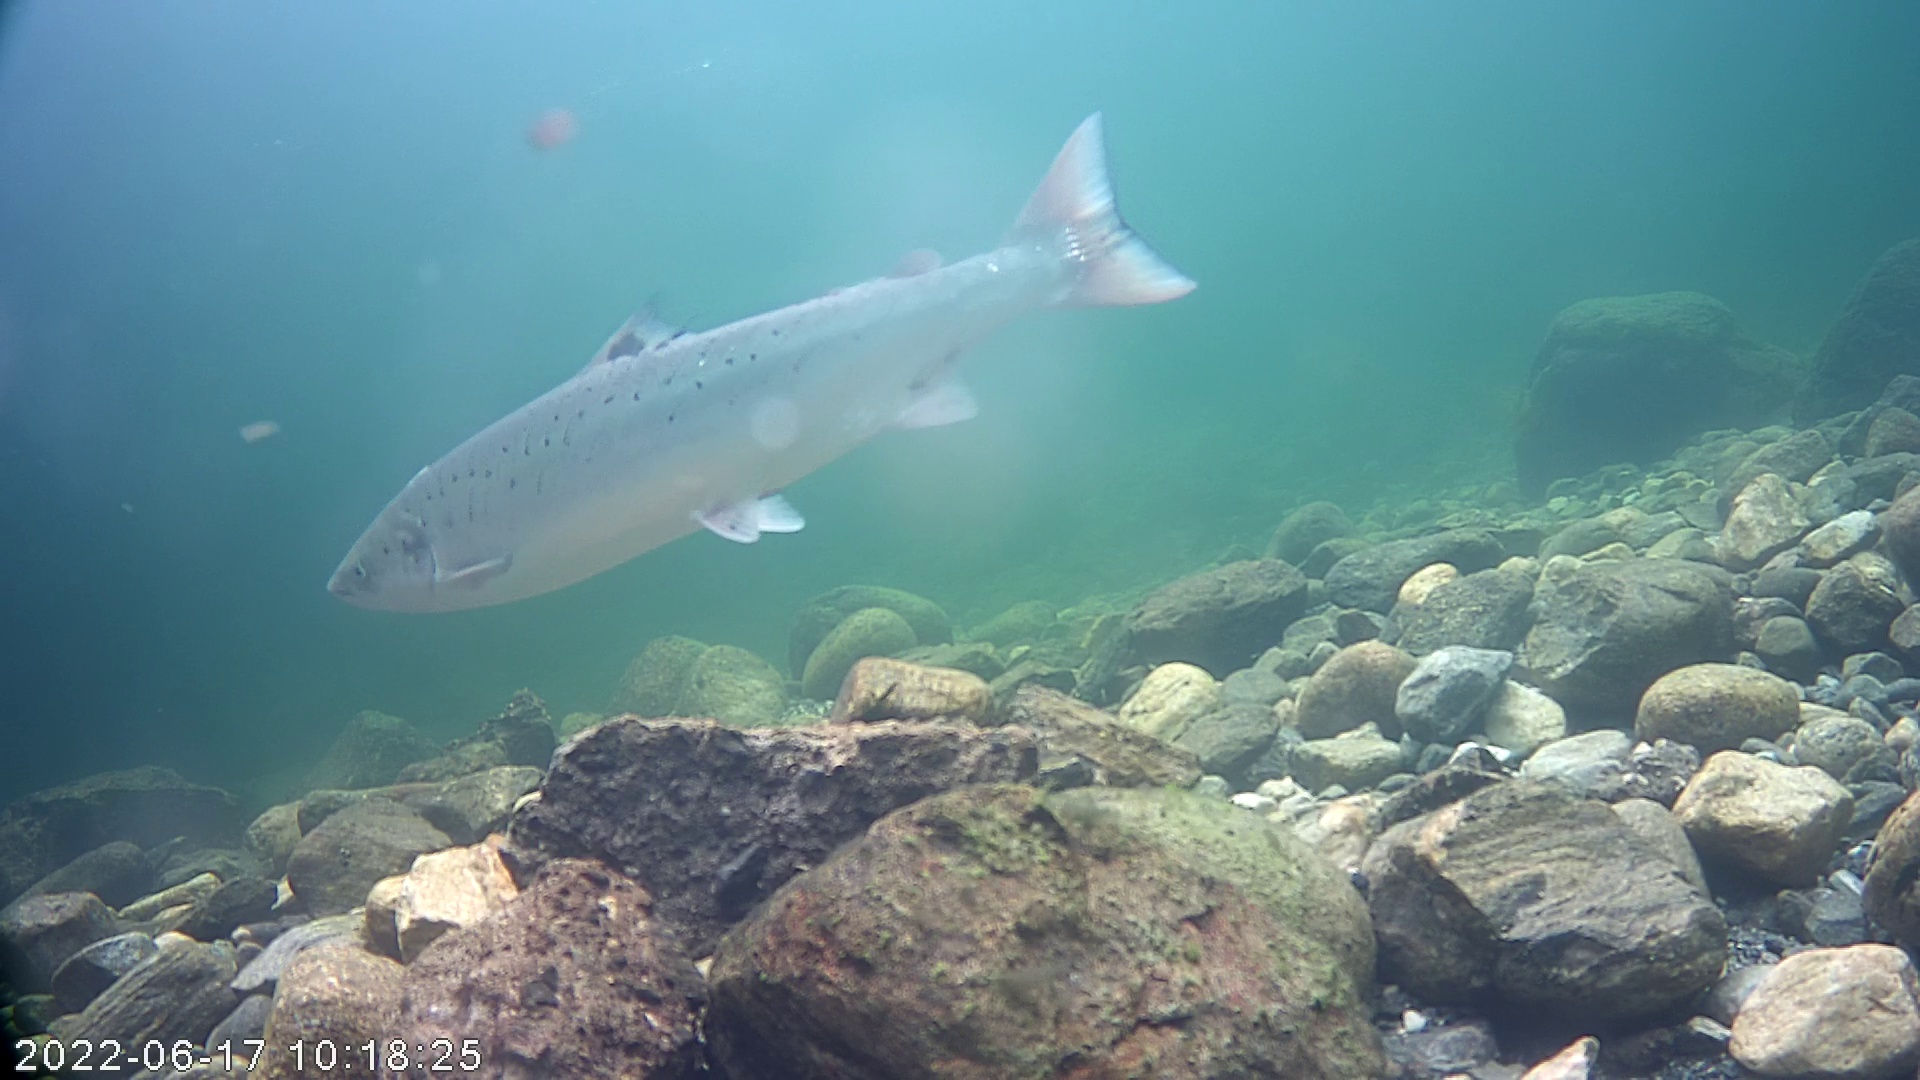salmon: (320, 109, 1203, 618)
